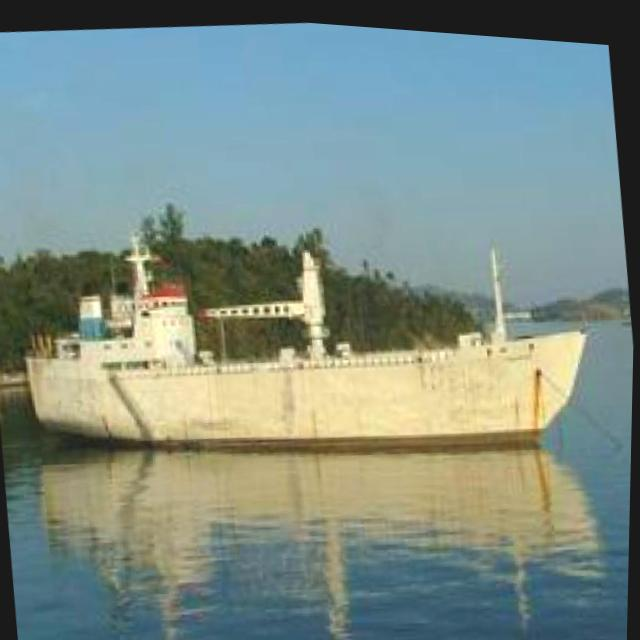ship2: (28, 233, 593, 438)
